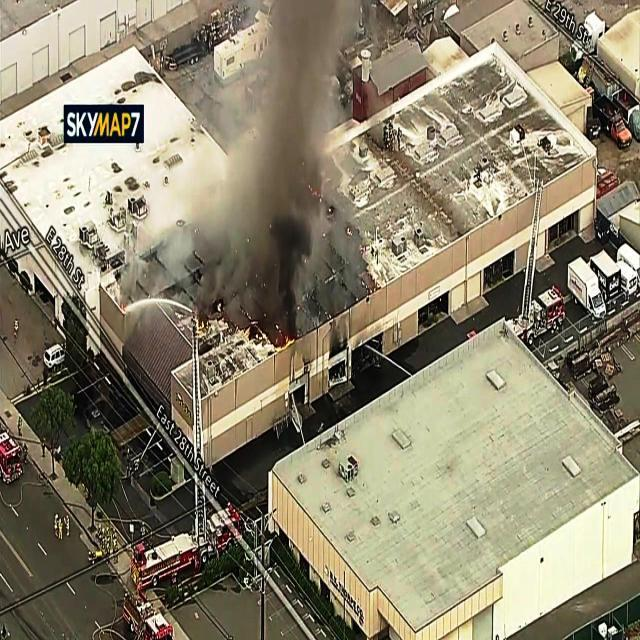Smoke: (196, 0, 366, 314)
